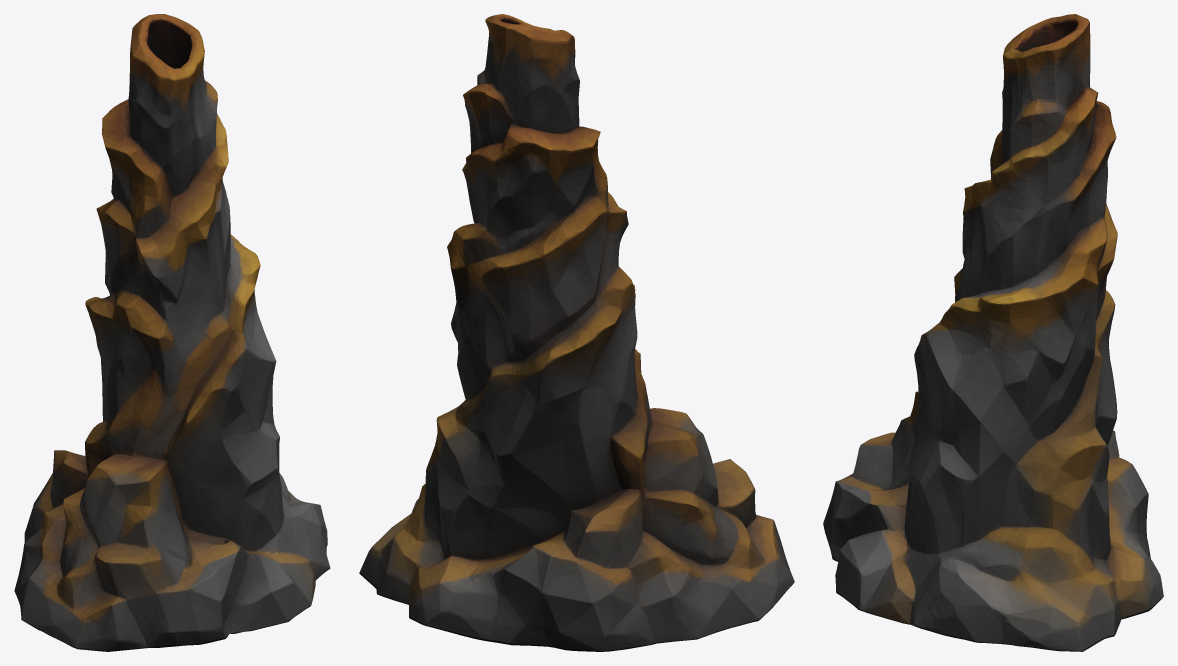
The picture shows the model from 3 angles, left to right: view 1: azimuth 30°, elevation 25°; view 2: azimuth 150°, elevation 25°; view 3: azimuth 270°, elevation 25°; orthographic projection. The views are drawn at different scales.
Parts seen in each view (by area): view 1: world; view 2: world; view 3: world.
Boxes of the visible parts, x1,y1,x2,y2 form: world: (14, 14, 330, 651); world: (359, 14, 794, 651); world: (823, 14, 1163, 651).
Size of the model in its own units: 0.528 by 0.85 by 0.4671.
1 material, 1 textured.
